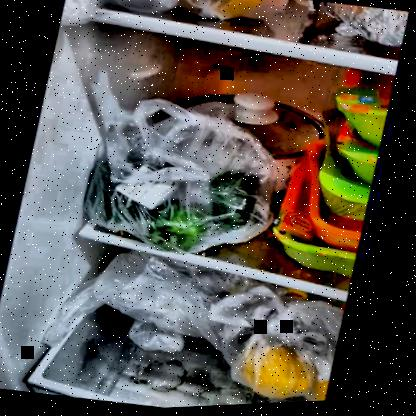lemon: (237, 340, 326, 404), (177, 0, 280, 28)
